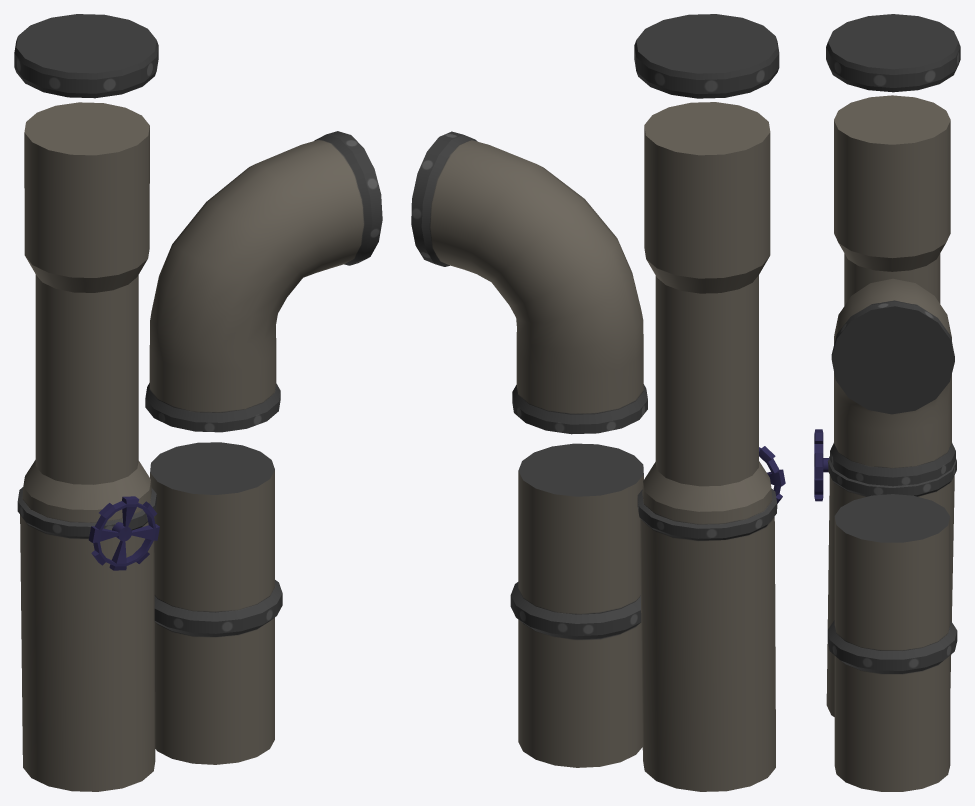
File: tubes.fbx
The picture shows the model from 3 angles, left to right: view 1: azimuth 30°, elevation 25°; view 2: azimuth 150°, elevation 25°; view 3: azimuth 270°, elevation 25°; orthographic projection. The views are drawn at different scales.
Parts seen in each view (by area): view 1: tube_lang, tube_hoek, tube_short, tube_tussen_stuck; view 2: tube_lang, tube_hoek, tube_short, tube_tussen_stuck; view 3: tube_short, tube_lang, tube_hoek, tube_tussen_stuck.
Boxes of the visible parts, x1,y1,x2,y2 form: tube_lang: [17, 102, 159, 791]; tube_hoek: [145, 131, 382, 432]; tube_short: [150, 442, 282, 764]; tube_tussen_stuck: [14, 14, 158, 98]; tube_lang: [637, 102, 785, 791]; tube_hoek: [411, 131, 647, 434]; tube_short: [510, 443, 643, 767]; tube_tussen_stuck: [634, 14, 779, 98]; tube_short: [827, 494, 957, 791]; tube_lang: [814, 95, 956, 716]; tube_hoek: [830, 278, 955, 486]; tube_tussen_stuck: [826, 14, 960, 92].
Size of the model in its own units: 272 by 573 by 113.
